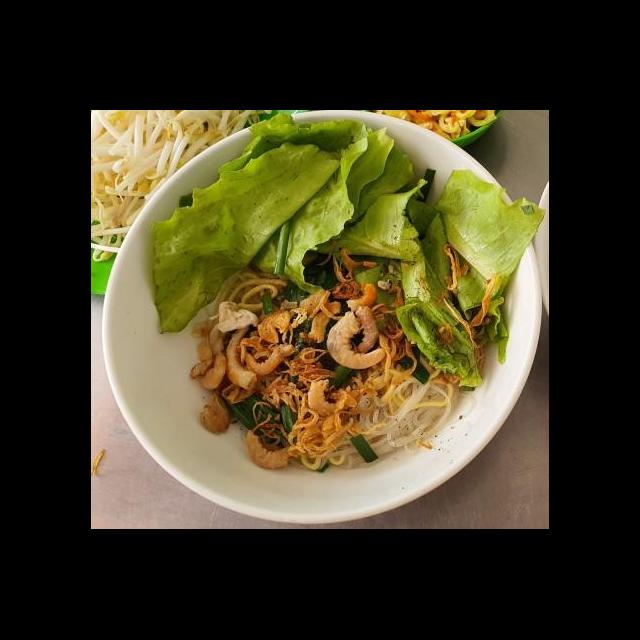banh hu tieu: (283, 371, 470, 476)
tom: (321, 306, 391, 374), (301, 376, 351, 418)
